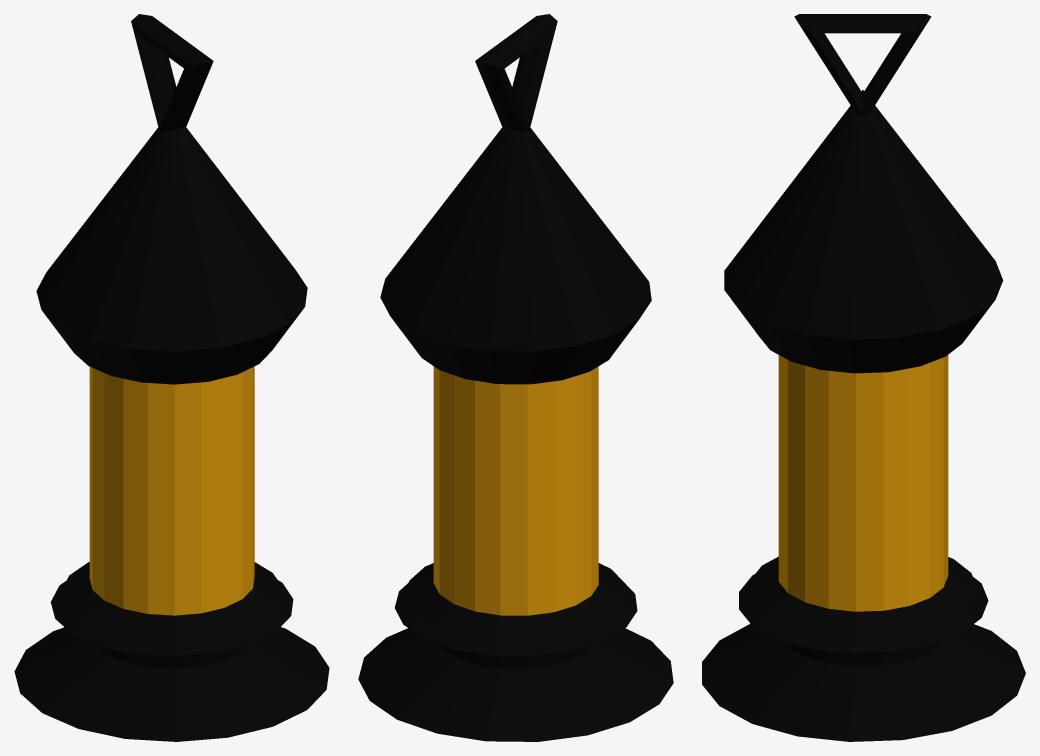
Rendered from Lantern.fbx.
The picture shows the model from 3 angles, left to right: view 1: azimuth 30°, elevation 25°; view 2: azimuth 150°, elevation 25°; view 3: azimuth 270°, elevation 25°; orthographic projection. The views are drawn at different scales.
Parts seen in each view (by area): view 1: Cone; view 2: Cone; view 3: Cone.
Boxes of the visible parts, left/top/right/bottom form: Cone: left=14, top=14, right=329, bottom=741; Cone: left=358, top=14, right=673, bottom=741; Cone: left=702, top=14, right=1025, bottom=741.
Size of the model in its own units: 23.15 by 51.61 by 23.07.
